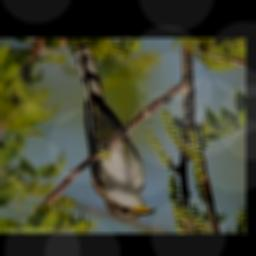Cuckoo: (72, 43, 156, 220)
